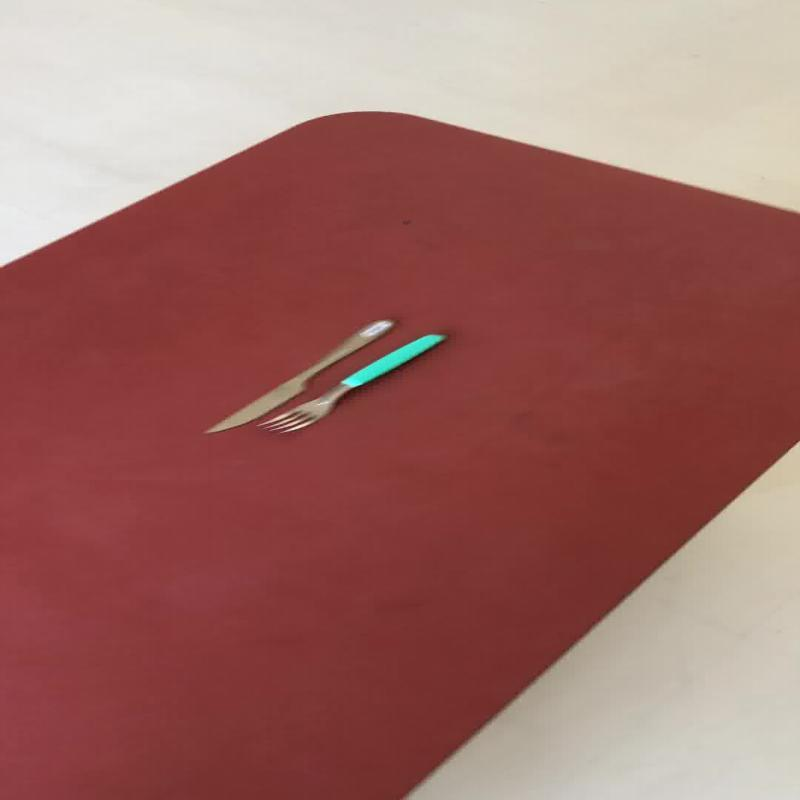fork: (254, 332, 448, 434)
knife: (200, 317, 396, 433), (254, 332, 448, 434)
